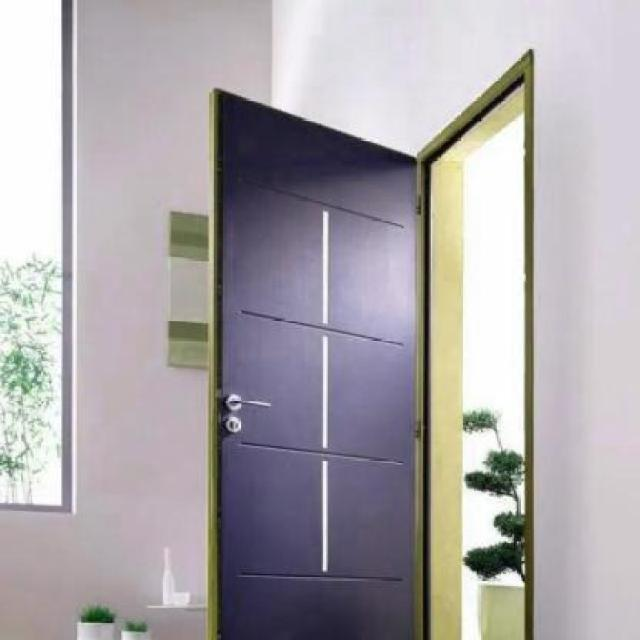door_handle: (228, 392, 276, 417)
